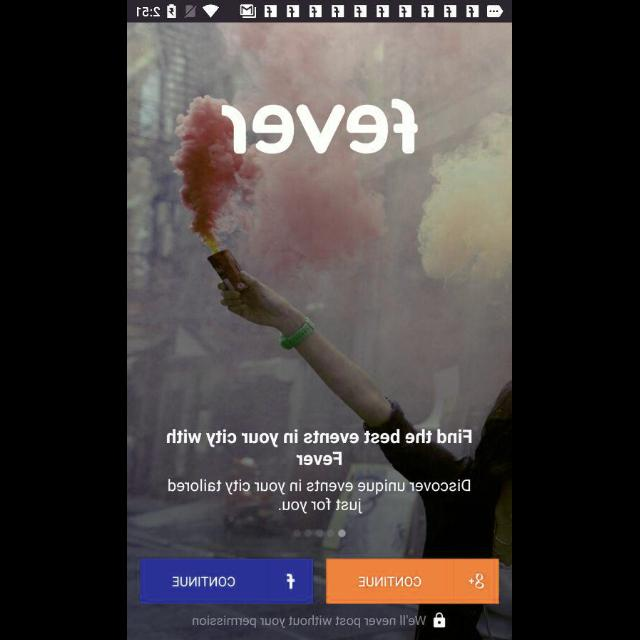backgroundimage: (128, 24, 512, 640)
icon: (434, 613, 446, 627)
pageindicator: (293, 528, 347, 538)
text: (165, 428, 473, 466), (168, 478, 470, 516), (221, 99, 419, 155), (193, 614, 427, 628)
textbutton: (326, 558, 500, 604), (140, 559, 314, 603)
uppertaskbar: (128, 1, 512, 23)
